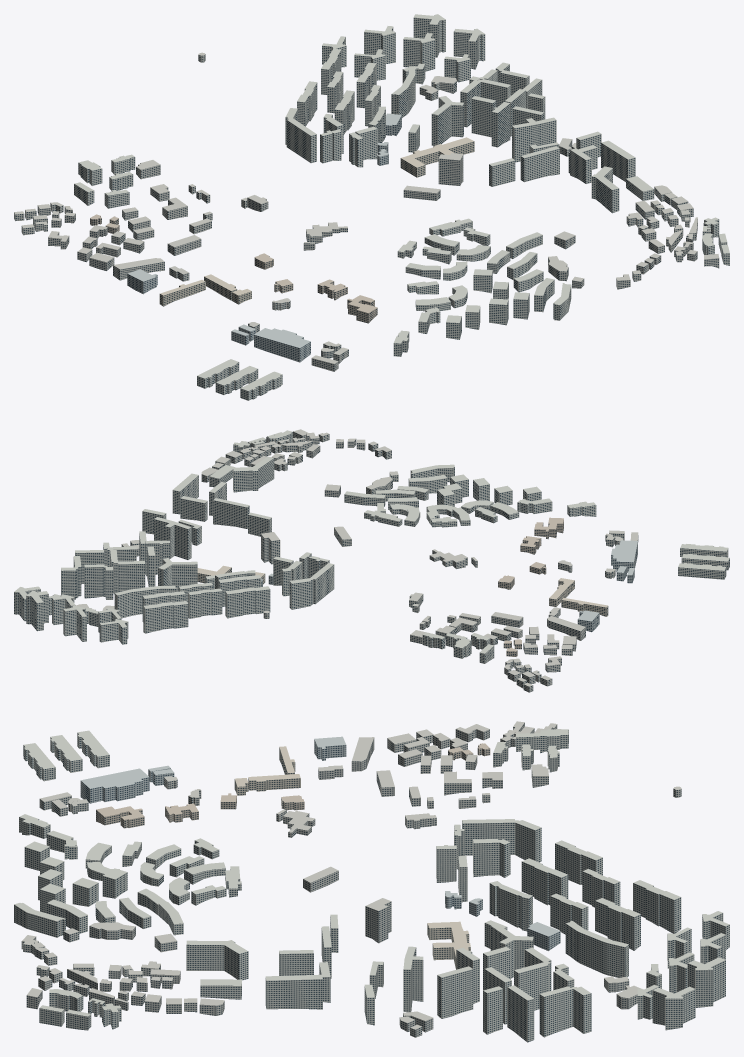
The model's file is city_-1_0.glb.
3 views of the same model, one above another, from view 1: azimuth 30°, elevation 25°; view 2: azimuth 150°, elevation 25°; view 3: azimuth 270°, elevation 25° (orthographic). The views are drawn at different scales.
Size of the model in its own units: 1040 by 161 by 1029.
5 materials, 5 textured.
